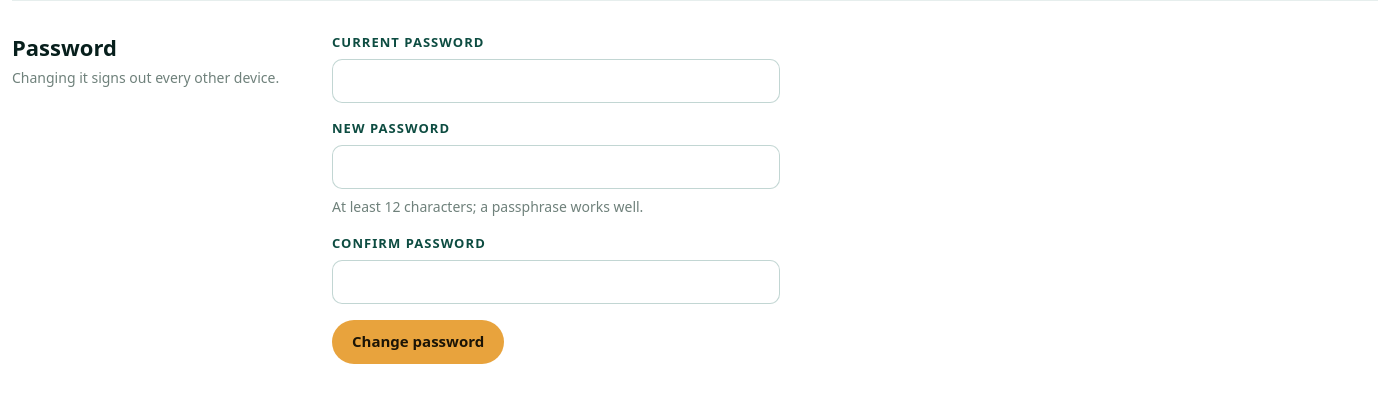
Test: RFC-21 R7 PasswordSection › checks the confirmation locally and maps AUTH_INVALID_CREDENTIALS and AUTH_PASSWORD_WEAK
Type "old passphrase here" into the password field labelled "Current password" at (556, 81), box top-left (332, 59), bottom-right (780, 103)
Type "new passphrase here!" into the password field labelled "New password" at (556, 167), box top-left (332, 145), bottom-right (780, 189)
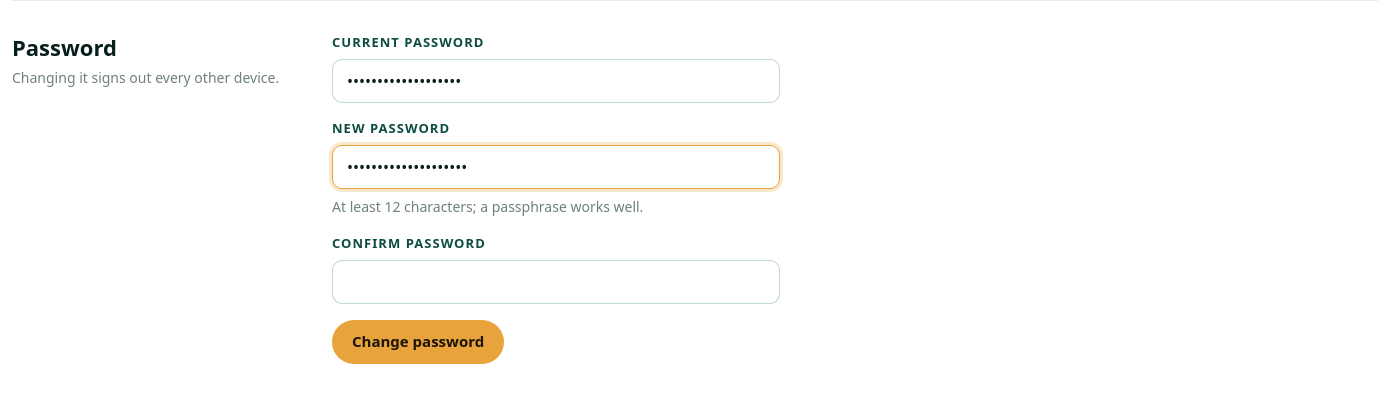
Type "different" into the password field labelled "Confirm password" at (556, 282), box top-left (332, 260), bottom-right (780, 304)
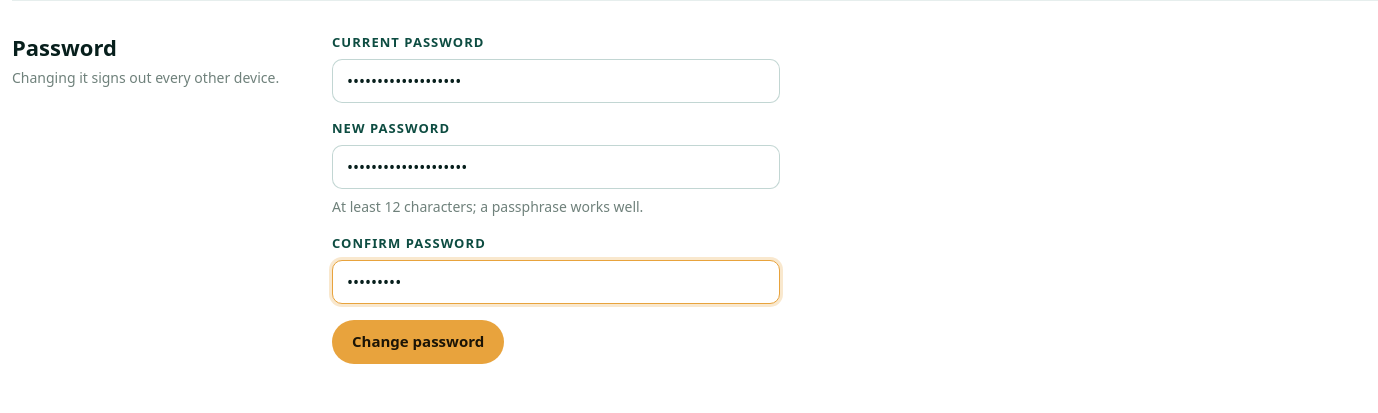
Click the button "Change password" at (418, 342), box top-left (332, 320), bottom-right (504, 364)
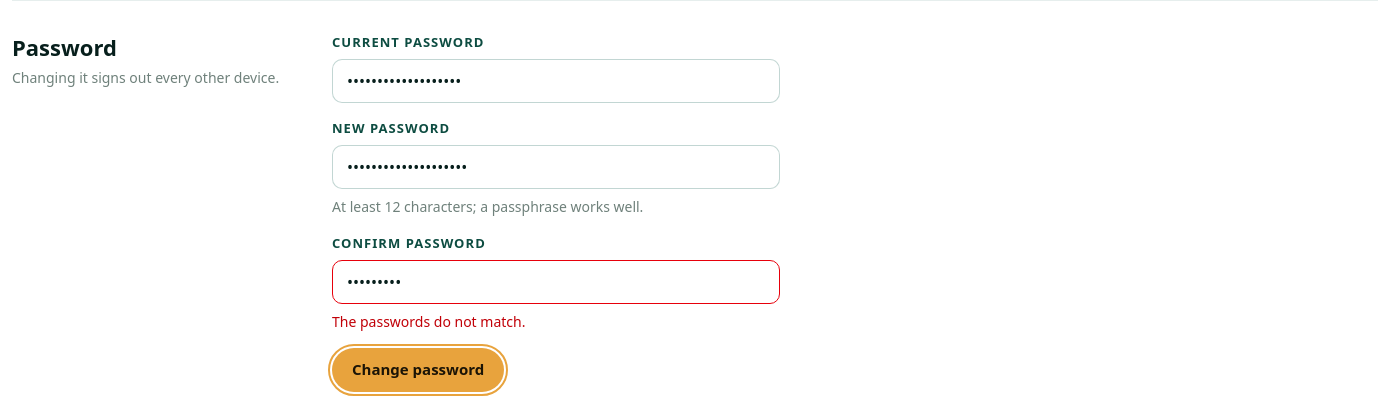
Expected: the text "The passwords do not match." is shown, top-left (332, 312), bottom-right (525, 331)
Type "new passphrase here!" into the password field labelled "Confirm password" at (556, 282), box top-left (332, 260), bottom-right (780, 304)
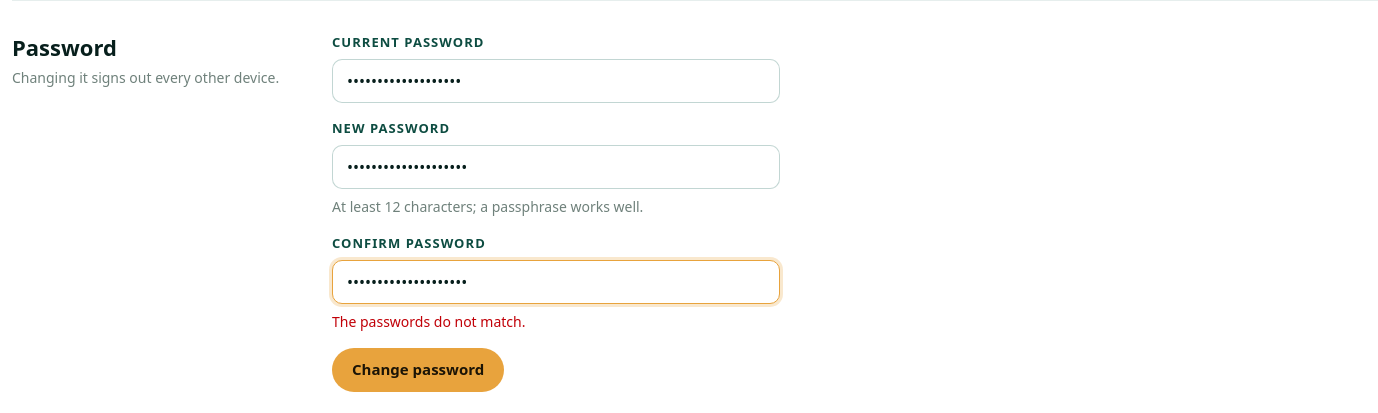
Click the button "Change password" at (418, 370), box top-left (332, 348), bottom-right (504, 392)
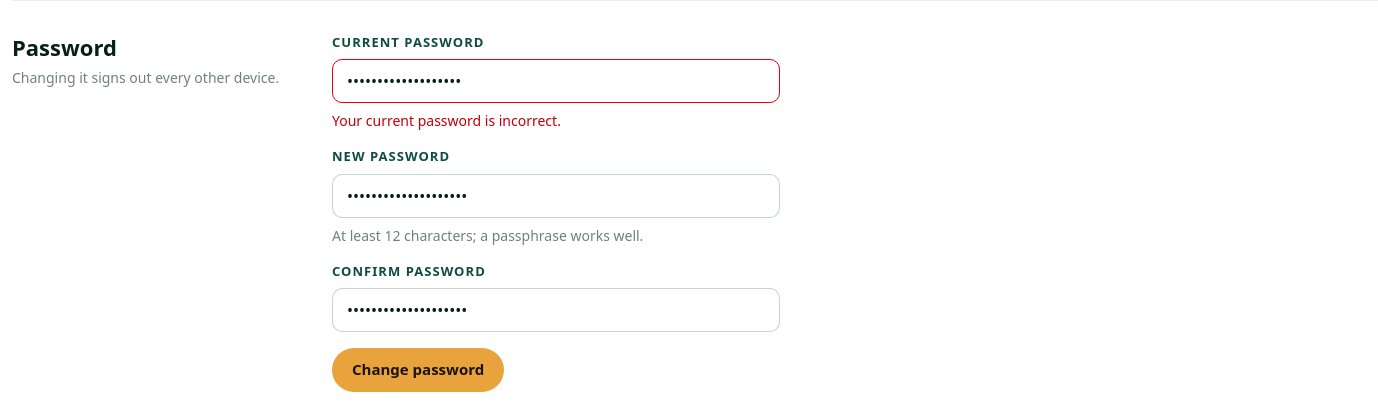
Expected: the text "Your current password is incorrect." is shown, top-left (332, 111), bottom-right (561, 130)
Click the button "Change password" at (418, 370), box top-left (332, 348), bottom-right (504, 392)
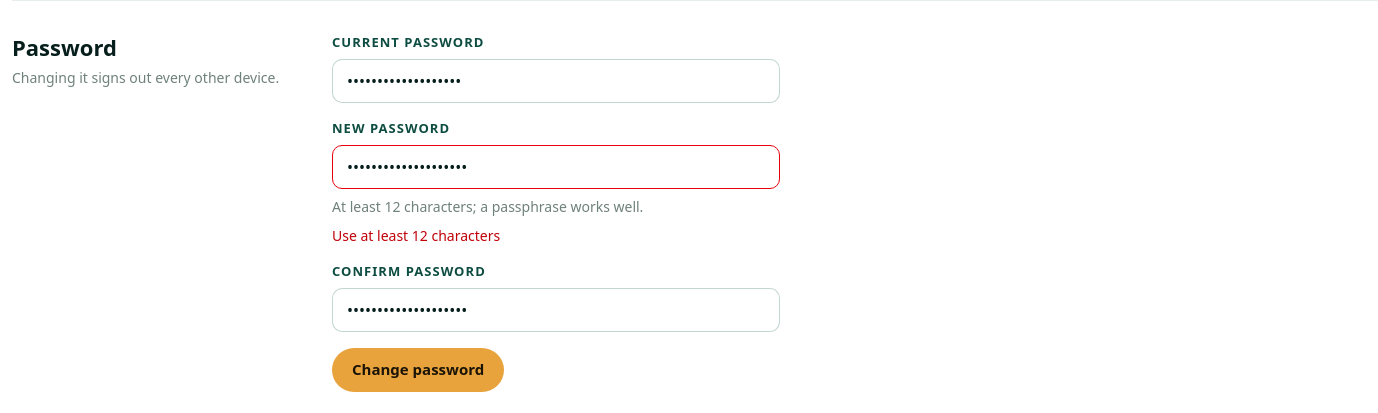
Expected: the text "Use at least 12 characters" is shown, top-left (332, 226), bottom-right (500, 245)
